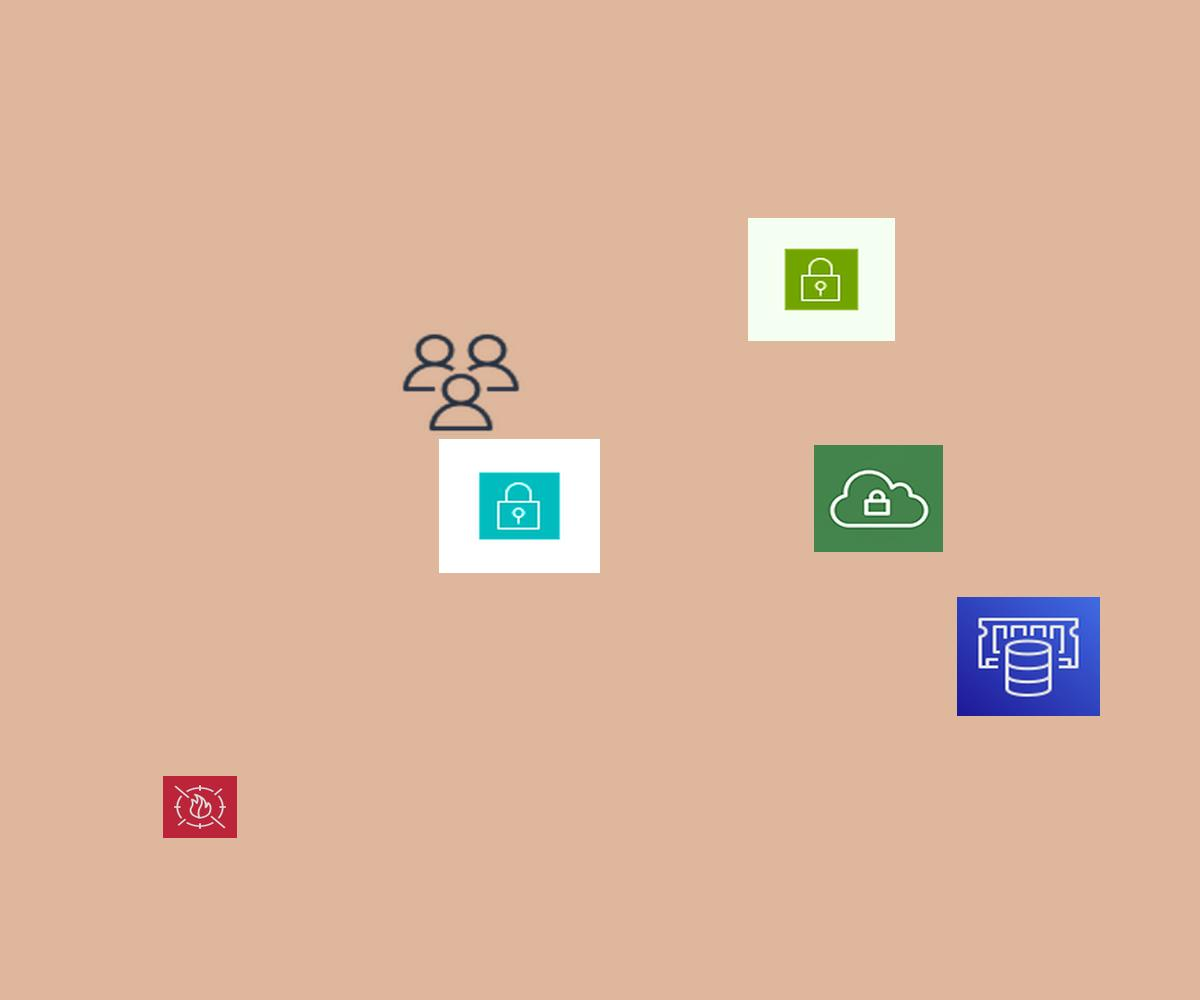AWS-ElastiCache: (957, 597, 1100, 716)
AWS-Private-subnet: (439, 439, 600, 573)
AWS-Private_vpc: (814, 445, 943, 552)
AWS-Public-subnet: (748, 218, 895, 341)
AWS-Res_Users: (398, 330, 524, 435)
AWS-WAF: (163, 776, 237, 838)
